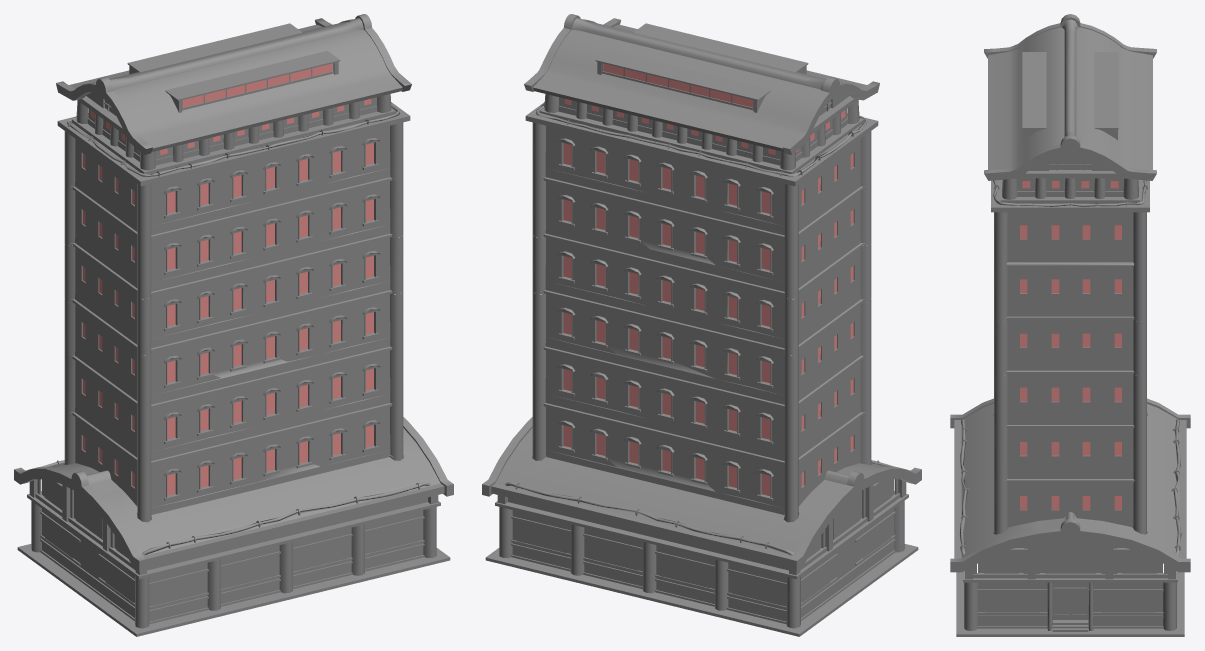
File: SM_ENV_LKNVLD_CommonBuilding_A_Tall.gltf
3 renders of one model, left to right at view 1: azimuth 30°, elevation 25°; view 2: azimuth 150°, elevation 25°; view 3: azimuth 270°, elevation 25°, orthographic. The views are drawn at different scales.
Parts seen in each view (by area): view 1: SM_ENV_LKNVLD_CommonBuilding_A_Tall; view 2: SM_ENV_LKNVLD_CommonBuilding_A_Tall; view 3: SM_ENV_LKNVLD_CommonBuilding_A_Tall.
Part boxes in pixels (x1,y1,x2,y2): SM_ENV_LKNVLD_CommonBuilding_A_Tall: [14, 14, 453, 636]; SM_ENV_LKNVLD_CommonBuilding_A_Tall: [482, 14, 921, 636]; SM_ENV_LKNVLD_CommonBuilding_A_Tall: [950, 14, 1190, 636].
Bounding box in the file's own units: 35.06 × 54 × 24.13.
